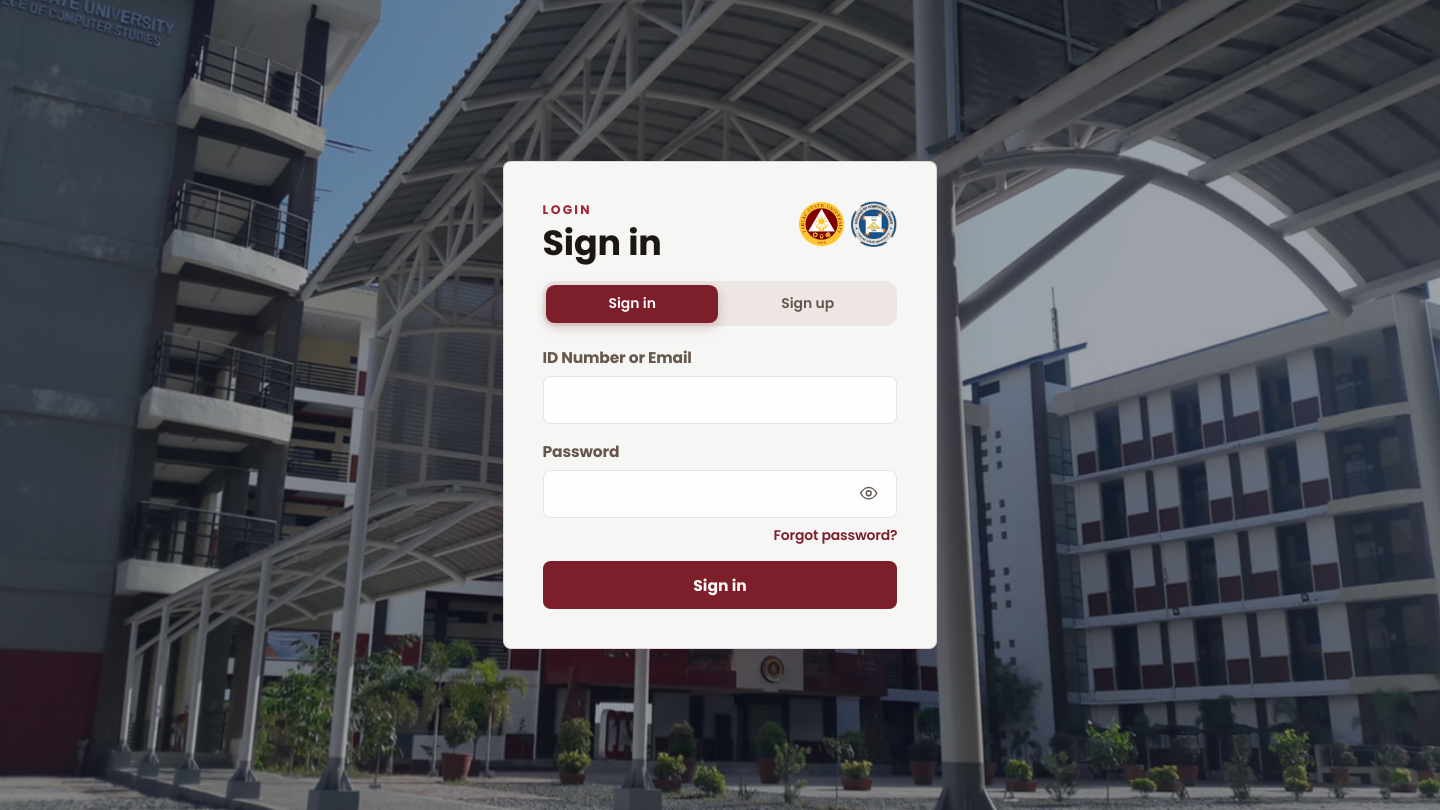
Test case: LoginPage › switches to the signup form when clicking the Sign Up toggle
Click the button with class "is-signup" at [808, 304], box 722,284 -> 894,323
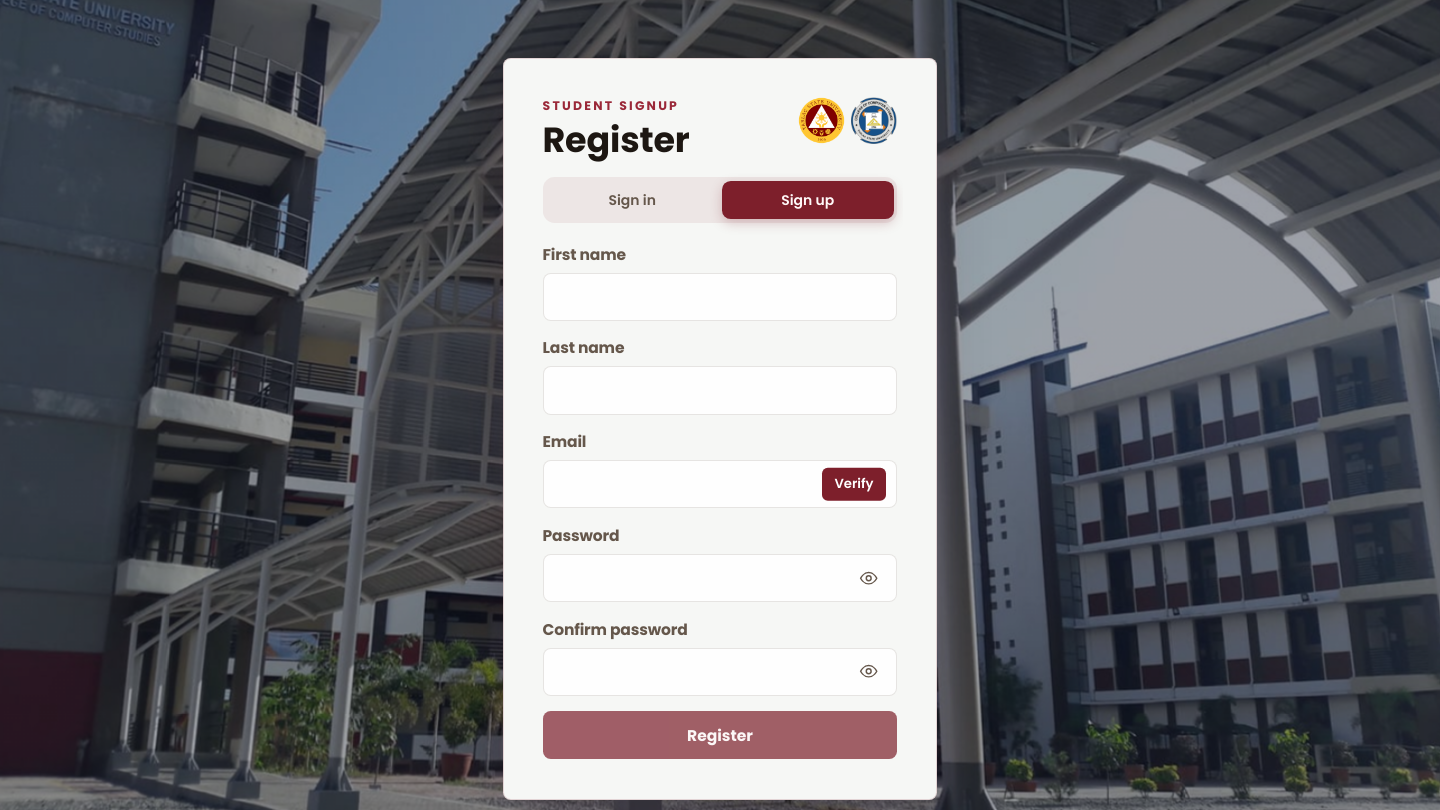
Expected: the field labelled "First name" is shown, 542,273 -> 898,321
Expected: the field labelled "Last name" is shown, 542,366 -> 898,415
Expected: the button "Register" is shown, 542,711 -> 898,759
